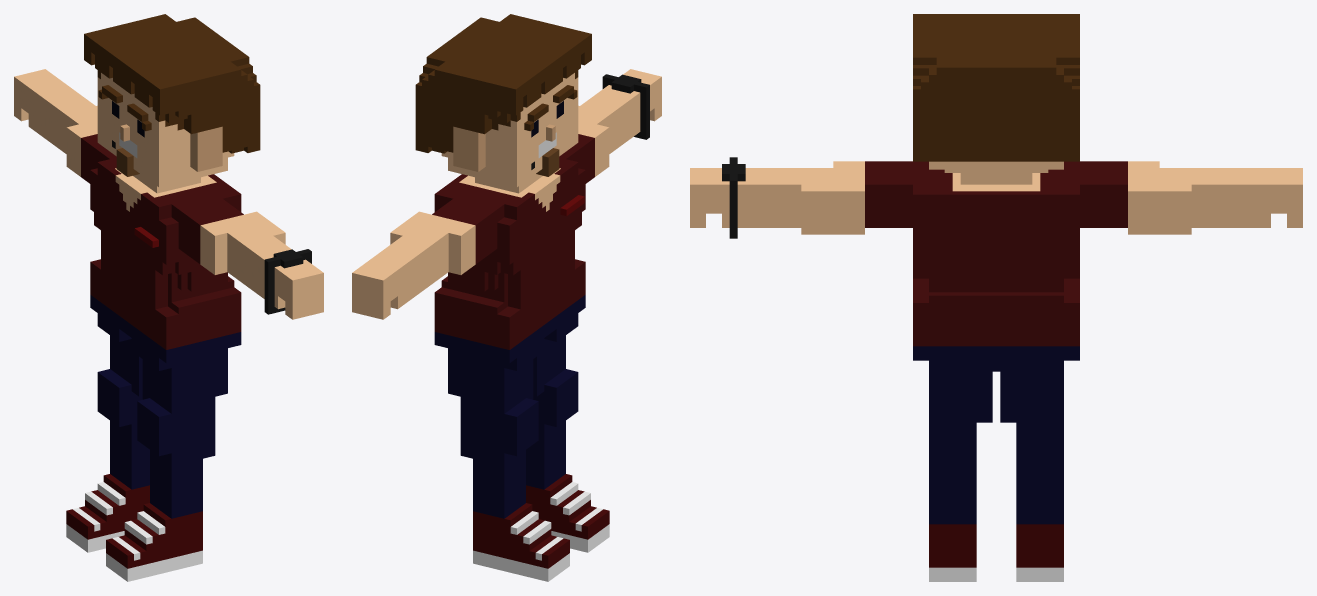
Rendered from harry.obj.
3 views of the same model, side by side, from view 1: azimuth 30°, elevation 25°; view 2: azimuth 150°, elevation 25°; view 3: azimuth 270°, elevation 25° (orthographic). The views are drawn at different scales.
Bounding box in the file's own units: 2 × 7.5 × 7.7.
1 material, 1 textured.
